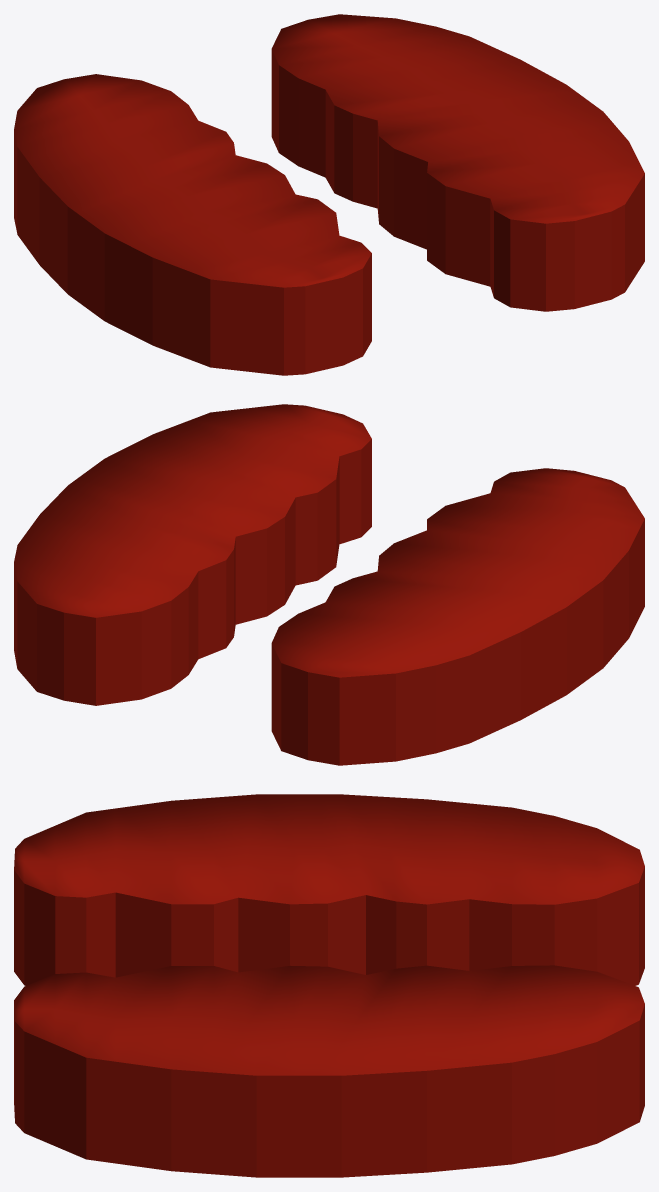
The model's file is kidneys.glb.
The picture shows the model from 3 angles, top to bottom: view 1: azimuth 30°, elevation 25°; view 2: azimuth 150°, elevation 25°; view 3: azimuth 270°, elevation 25°; orthographic projection. The views are drawn at different scales.
Visible parts, largest first — view 1: kidneys; view 2: kidneys; view 3: kidneys.
Part boxes in pixels (<box>): kidneys: <box>14,14,644,375</box>; kidneys: <box>14,404,644,765</box>; kidneys: <box>14,794,644,1177</box>.
Bounding box in the file's own units: 5.22 × 0.8813 × 4.95.
